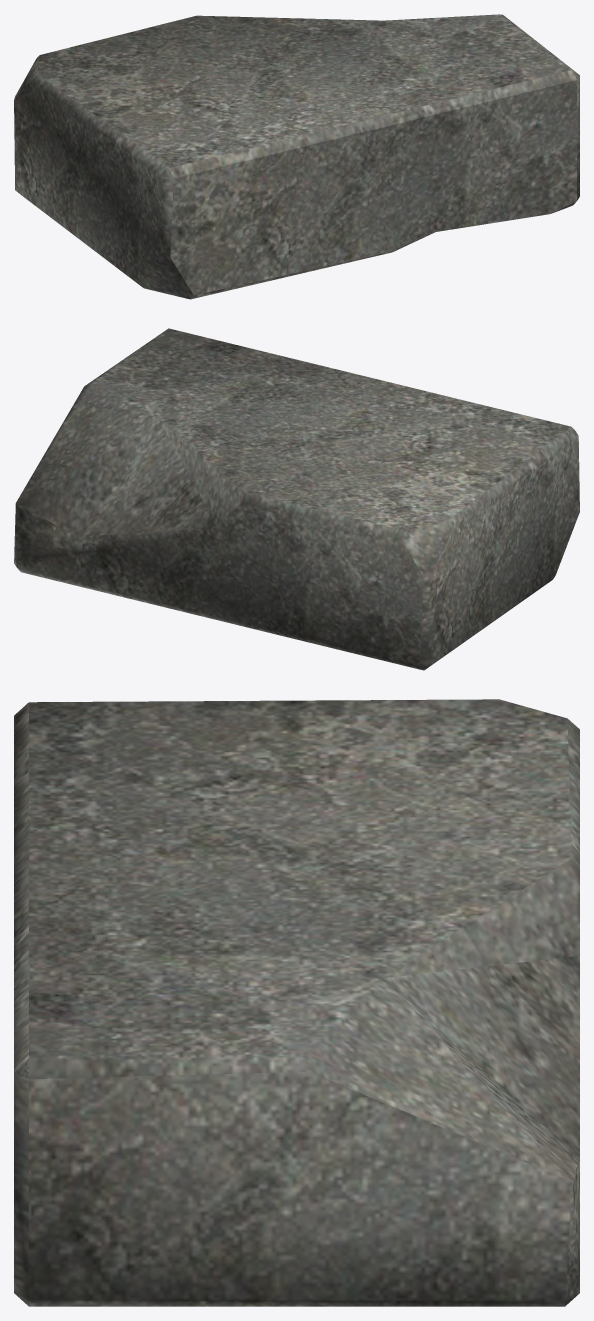
File: Stone_brick_floor.FBX
3 renders of one model, top to bottom at view 1: azimuth 30°, elevation 25°; view 2: azimuth 150°, elevation 25°; view 3: azimuth 270°, elevation 25°, orthographic. The views are drawn at different scales.
Visible parts, largest first — view 1: Box02; view 2: Box02; view 3: Box02.
Boxes of the visible parts, x1,y1,x2,y2 form: Box02: (14,14,579,299); Box02: (14,328,579,670); Box02: (14,699,579,1306).
Size of the model in its own units: 147 by 45.81 by 95.13.
Materials: 1 (1 with a texture image).
